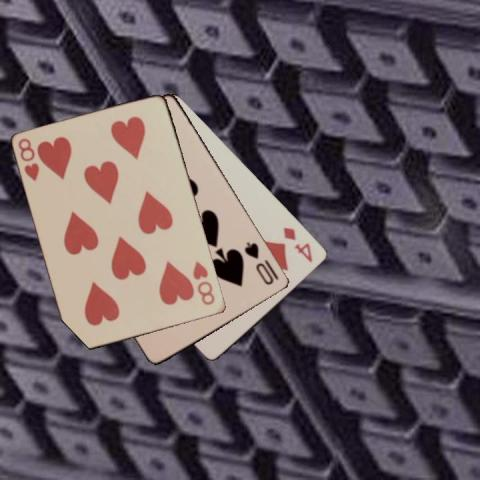10s: (242, 239, 276, 287)
4d: (280, 224, 315, 264)
8h: (190, 258, 217, 307), (15, 136, 42, 184)
